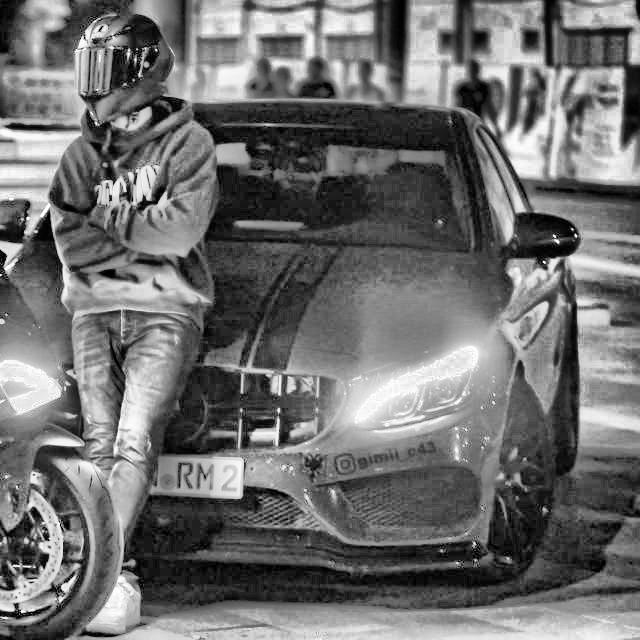Helmet: (68, 8, 178, 132)
